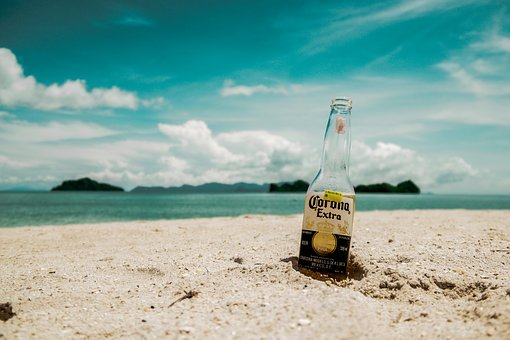bottle: (302, 96, 359, 284)
sea: (8, 194, 506, 340)
sky: (2, 1, 510, 192)
